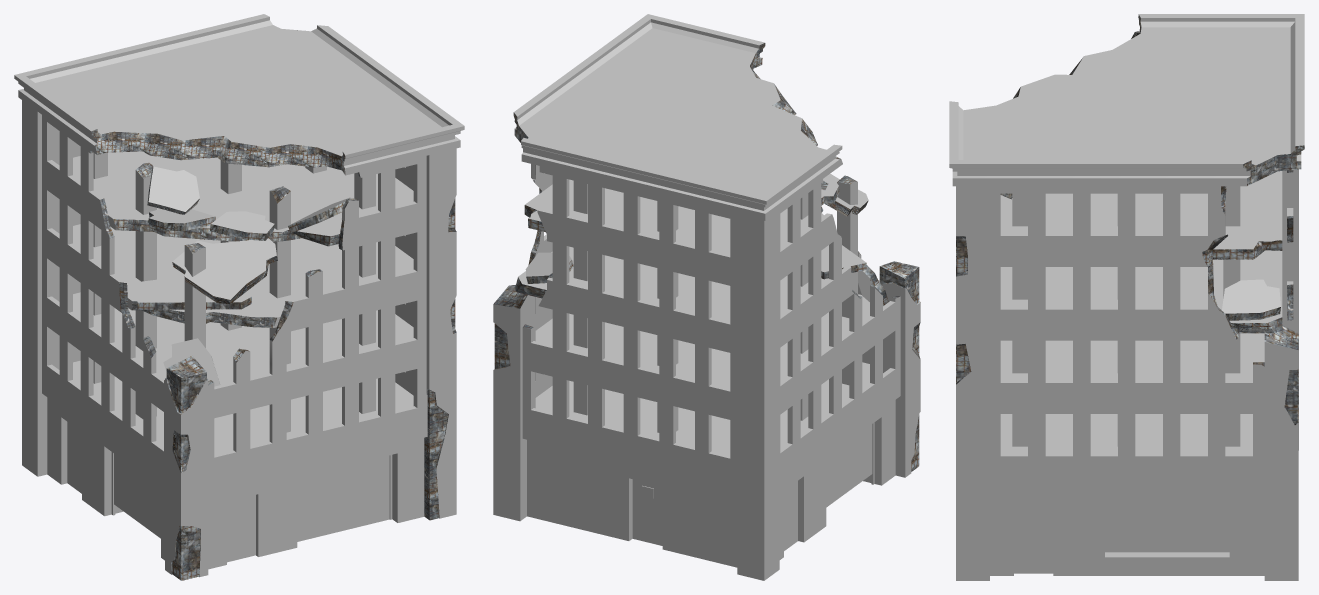
File: Build1_LOD2.fbx
3 renders of one model, left to right at view 1: azimuth 30°, elevation 25°; view 2: azimuth 150°, elevation 25°; view 3: azimuth 270°, elevation 25°, orthographic. The views are drawn at different scales.
Visible parts, largest first — view 1: polySurface1539; view 2: polySurface1539; view 3: polySurface1539.
Part boxes in pixels (<box>): polySurface1539: <box>14,14,464,580</box>; polySurface1539: <box>493,14,920,580</box>; polySurface1539: <box>949,14,1304,580</box>.
Bounding box in the file's own units: 10.1 × 13.16 × 10.1.
